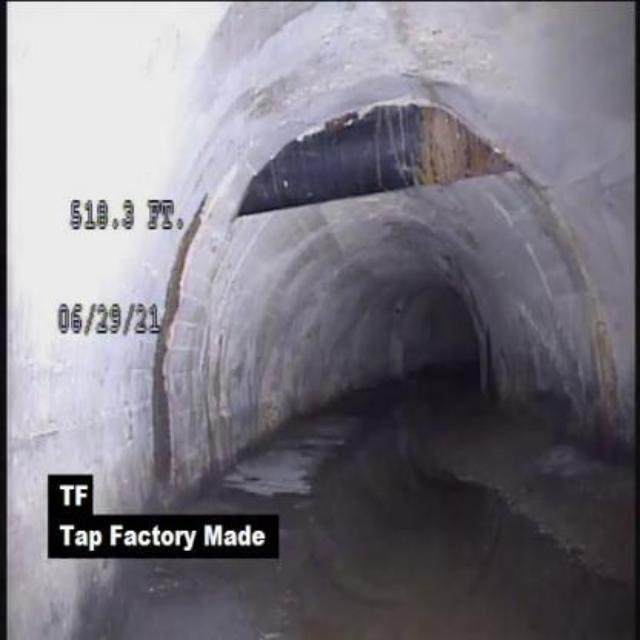Utility intrusion: (226, 95, 518, 222)
